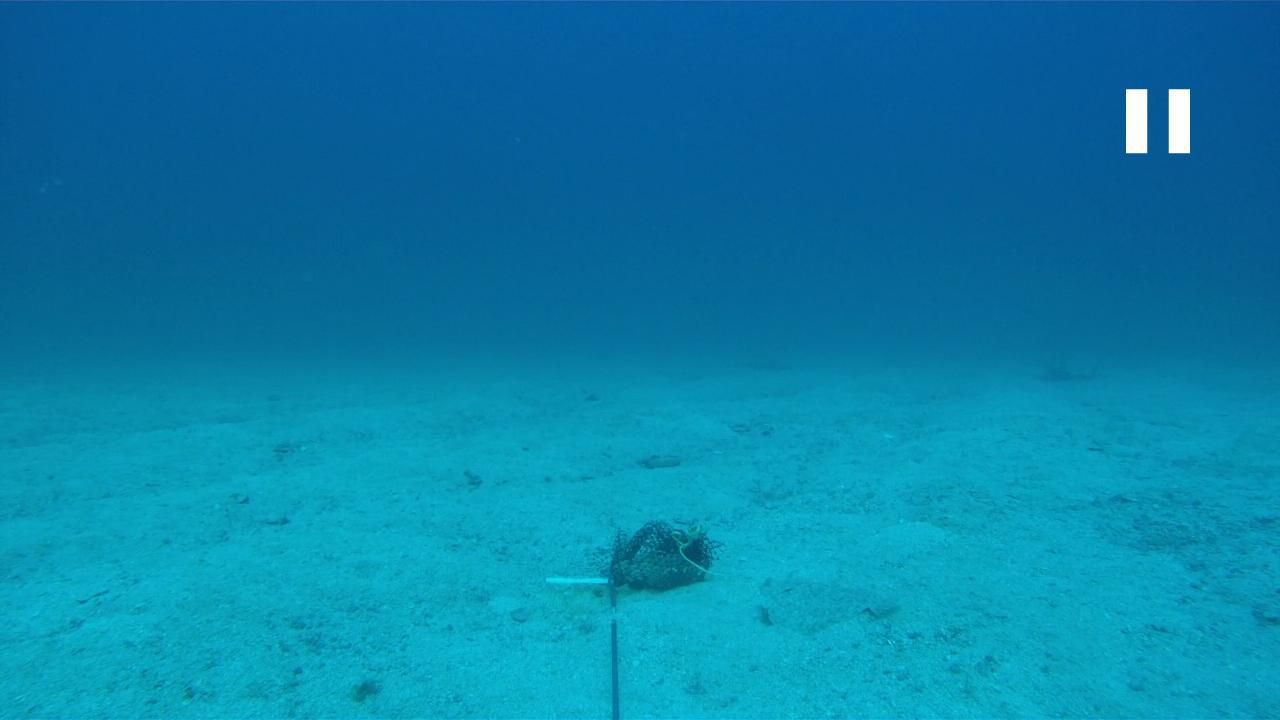bothus: (751, 565, 904, 634)
